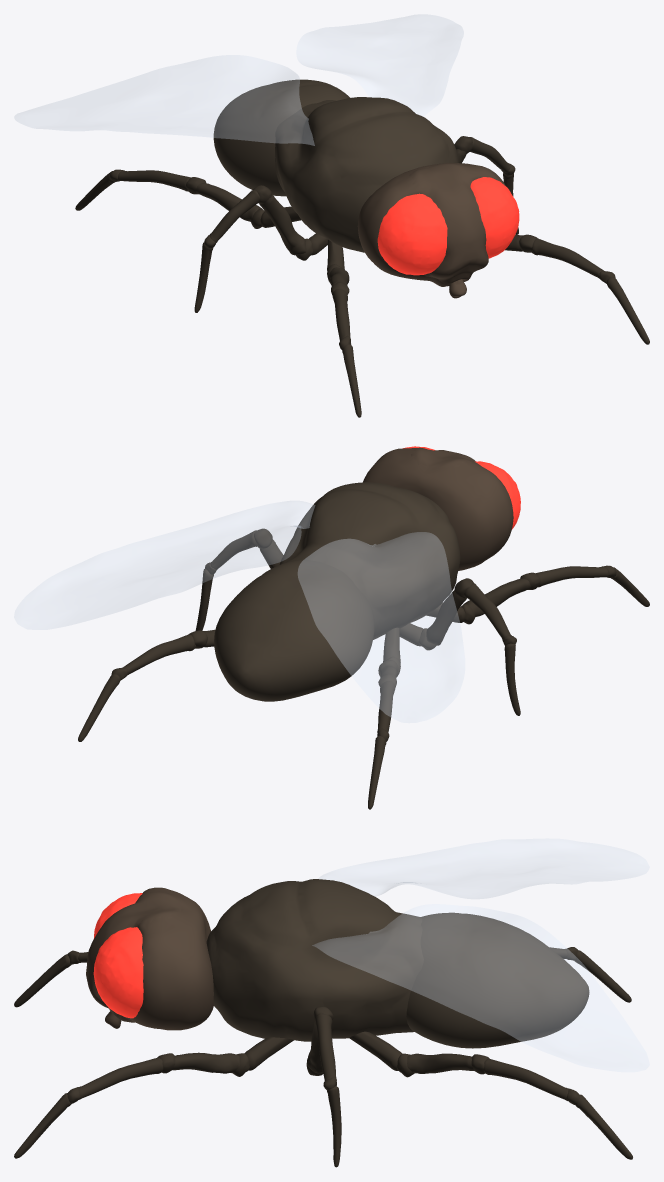
Rendered from fly.glb.
3 views of the same model, one above another, from view 1: azimuth 30°, elevation 25°; view 2: azimuth 150°, elevation 25°; view 3: azimuth 270°, elevation 25° (orthographic). The views are drawn at different scales.
Visible parts, largest first — view 1: wing, body, leg, head, eye; view 2: wing, body, leg, head, eye; view 3: body, wing, leg, head, eye.
Part boxes in pixels (bbox=[...]): wing: bbox=[14, 14, 463, 145]; body: bbox=[213, 79, 458, 252]; leg: bbox=[75, 136, 649, 417]; head: bbox=[357, 163, 505, 298]; eye: bbox=[377, 177, 519, 275]; wing: bbox=[14, 501, 464, 722]; body: bbox=[214, 482, 460, 701]; leg: bbox=[78, 528, 649, 809]; head: bbox=[363, 447, 513, 570]; eye: bbox=[402, 446, 520, 529]; body: bbox=[206, 879, 589, 1048]; wing: bbox=[312, 838, 649, 1071]; leg: bbox=[14, 947, 632, 1167]; head: bbox=[86, 887, 213, 1030]; eye: bbox=[93, 893, 143, 1018].
Bounding box in the file's own units: 6.02 × 2.38 × 7.11.
